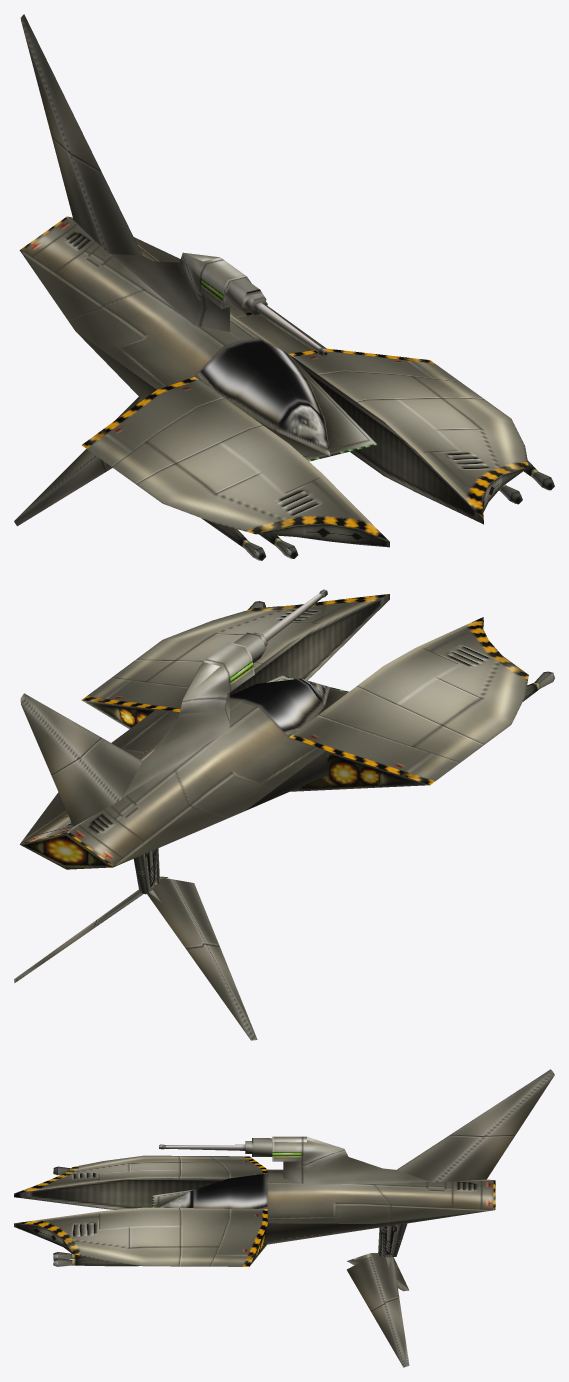
File: fig07_static.obj
The picture shows the model from 3 angles, top to bottom: view 1: azimuth 30°, elevation 25°; view 2: azimuth 150°, elevation 25°; view 3: azimuth 270°, elevation 25°; orthographic projection. The views are drawn at different scales.
Parts seen in each view (by area): view 1: frm-rfuselg_1, frm-fuselg1_1, frm-lfuselg_1, frm-fuselgf_1, frm-finzzz_1, frm-tfuselg1_1, frm-landgrar2_1, frm-twepbas_1, frm-tgun_1, frm-rgun2_1; view 2: frm-rfuselg_1, frm-fuselg1_1, frm-lfuselg_1, frm-finzzz_1, frm-tfuselg1_1, frm-landgrar2_1, frm-fuselgf_1, frm-landgrLal2_1, frm-LLam_1, frm-tgun_1, frm-twepbas_1; view 3: frm-lfuselg_1, frm-fuselg1_1, frm-rfuselg_1, frm-finzzz_1, frm-tfuselg1_1, frm-landgrLal2_1, frm-fuselgf_1, frm-LLam_1, frm-lgun1_1, frm-twepbas_1, frm-tgun_1, frm-landgrar2_1.
Boxes of the visible parts, <box> form: frm-rfuselg_1: <box>82,376,389,547</box>; frm-fuselg1_1: <box>19,216,376,461</box>; frm-lfuselg_1: <box>289,348,528,524</box>; frm-fuselgf_1: <box>195,338,330,455</box>; frm-finzzz_1: <box>20,14,142,255</box>; frm-tfuselg1_1: <box>68,217,246,331</box>; frm-landgrar2_1: <box>14,397,142,526</box>; frm-twepbas_1: <box>225,278,267,315</box>; frm-tgun_1: <box>255,302,327,356</box>; frm-rgun2_1: <box>201,518,266,560</box>; frm-rfuselg_1: <box>289,617,528,791</box>; frm-fuselg1_1: <box>20,675,348,869</box>; frm-lfuselg_1: <box>81,594,389,728</box>; frm-finzzz_1: <box>20,693,142,826</box>; frm-tfuselg1_1: <box>67,642,254,832</box>; frm-landgrar2_1: <box>147,878,257,1040</box>; frm-fuselgf_1: <box>230,678,330,736</box>; frm-landgrLal2_1: <box>14,876,167,982</box>; frm-LLam_1: <box>134,848,159,894</box>; frm-tgun_1: <box>262,589,327,641</box>; frm-twepbas_1: <box>233,632,267,663</box>; frm-lfuselg_1: <box>14,1207,267,1266</box>; frm-fuselg1_1: <box>152,1169,495,1244</box>; frm-rfuselg_1: <box>14,1155,267,1209</box>; frm-finzzz_1: <box>397,1069,554,1182</box>; frm-tfuselg1_1: <box>272,1136,492,1184</box>; frm-landgrLal2_1: <box>347,1254,409,1367</box>; frm-fuselgf_1: <box>159,1173,267,1208</box>; frm-LLam_1: <box>378,1223,407,1257</box>; frm-lgun1_1: <box>53,1257,139,1266</box>; frm-twepbas_1: <box>245,1138,272,1156</box>; frm-tgun_1: <box>159,1144,245,1150</box>; frm-landgrar2_1: <box>347,1253,409,1291</box>.
Size of the model in its own units: 3.11 by 3.42 by 6.43.
